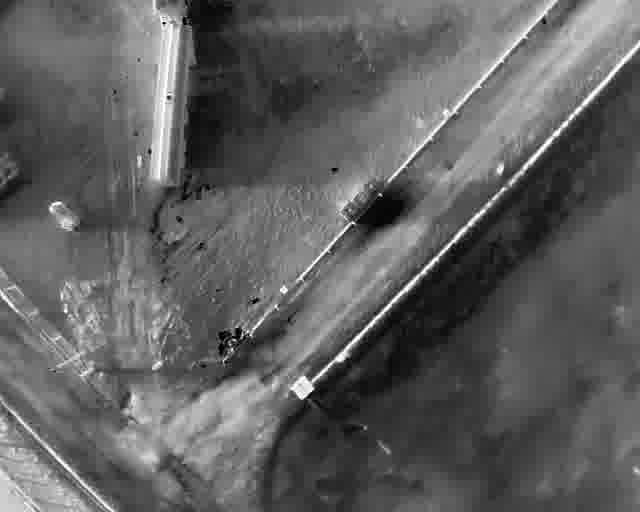truck: (148, 0, 196, 187)
